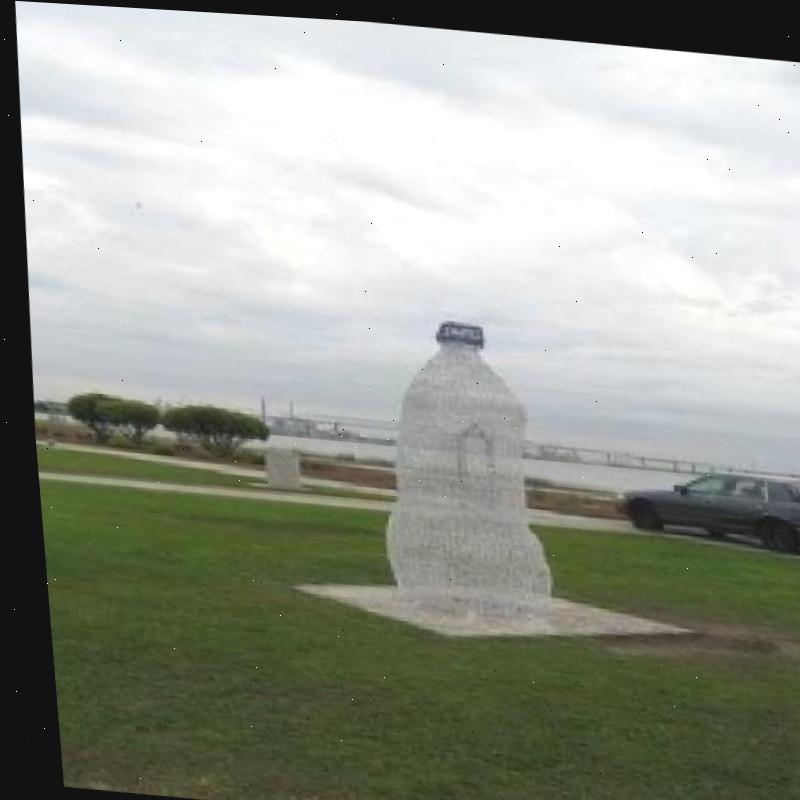botella: (356, 309, 560, 633)
